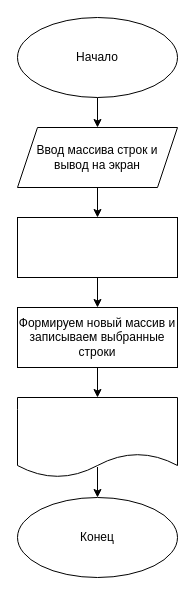
This 195x595 diagram has some shape labels left out. The shapes that lost their labels are listed below. From the top down, each one's centre as x and y in pixels, then its label:
At [97,247]: "Находим элементы массива с длинной меньше либо равно 3".
At [97,437]: "Ввыводим получившийся массив".
